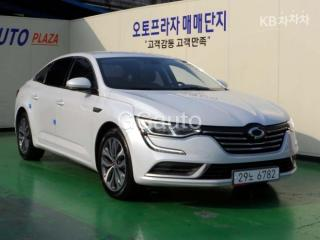2: (238, 173, 243, 183), (271, 169, 276, 178)
6: (257, 171, 262, 180)
7: (262, 170, 267, 179)
8: (267, 170, 271, 179)
9: (243, 172, 248, 182)
노: (249, 172, 254, 181)
